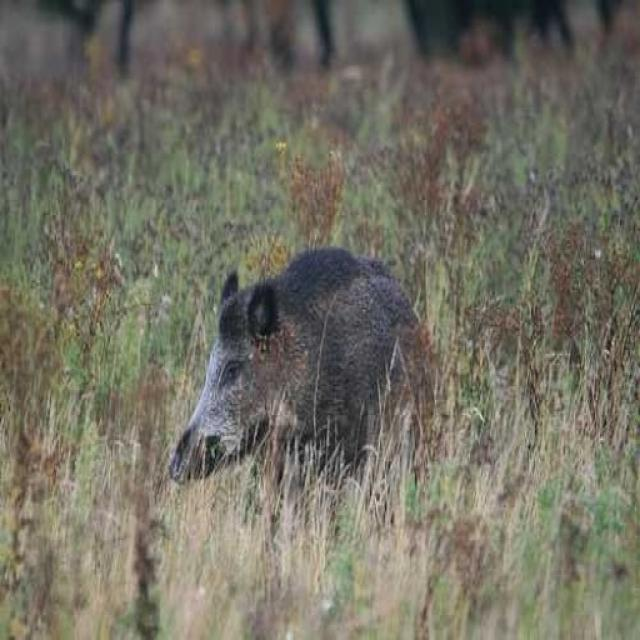pig: (185, 210, 439, 487)
